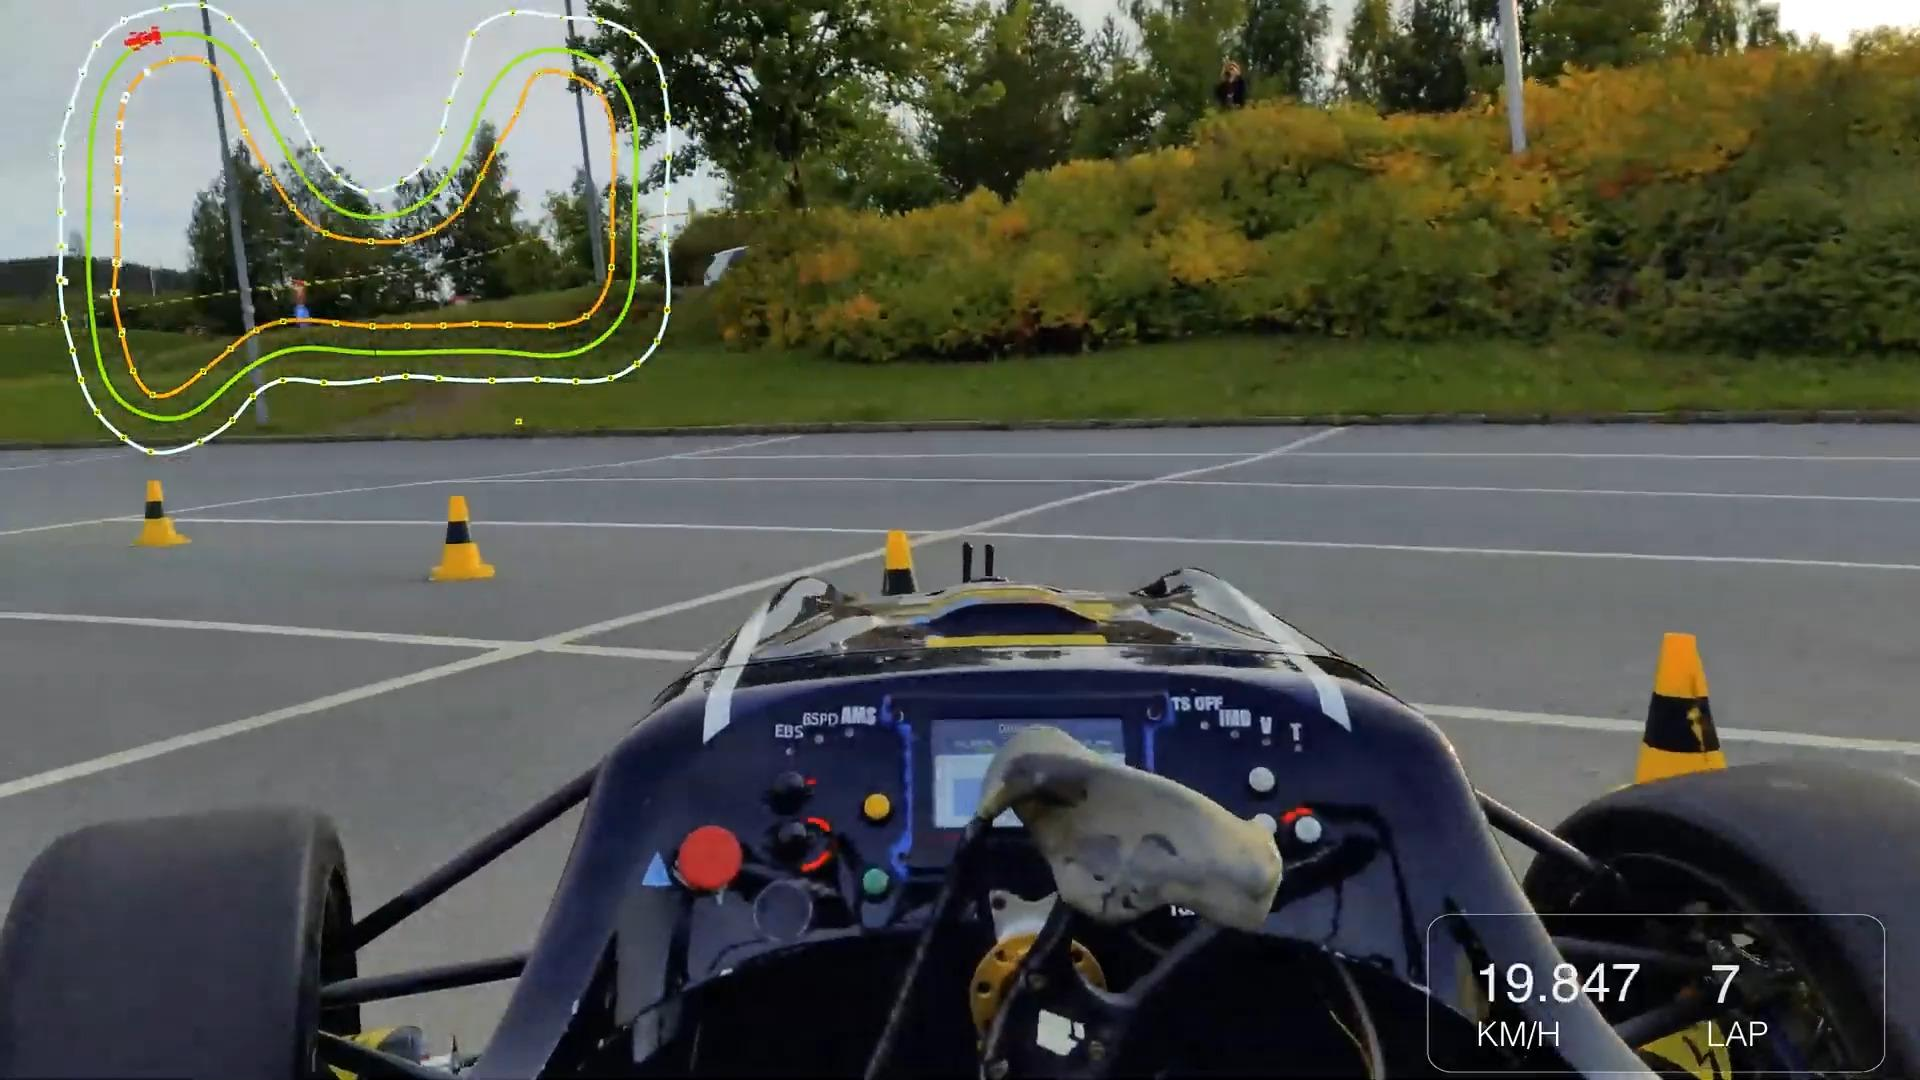yellow_cone: (1604, 630, 1756, 839), (431, 497, 496, 582), (129, 479, 189, 549)
